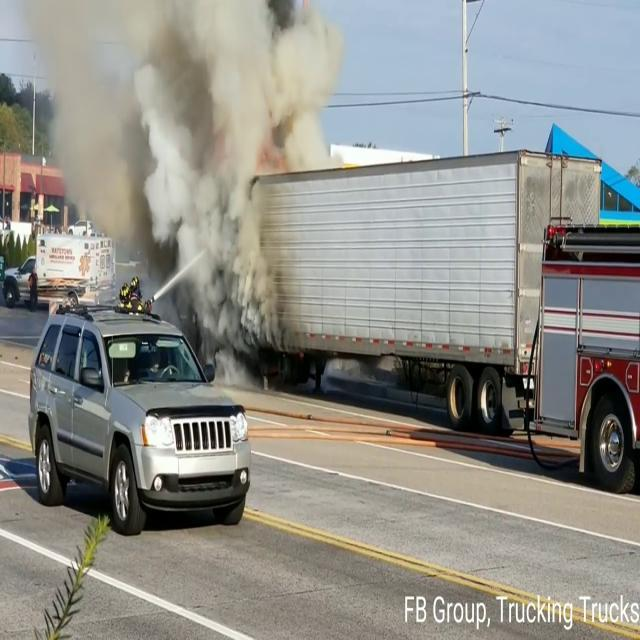Smoke: (51, 0, 341, 368)
